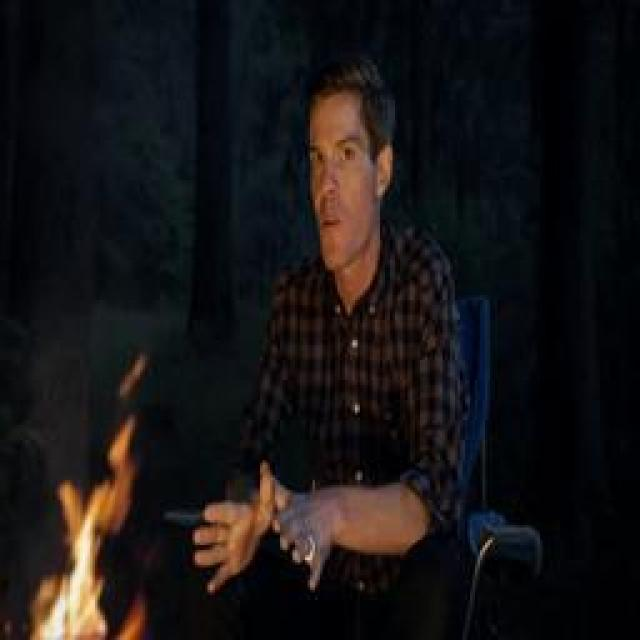Fire: (21, 420, 149, 640)
